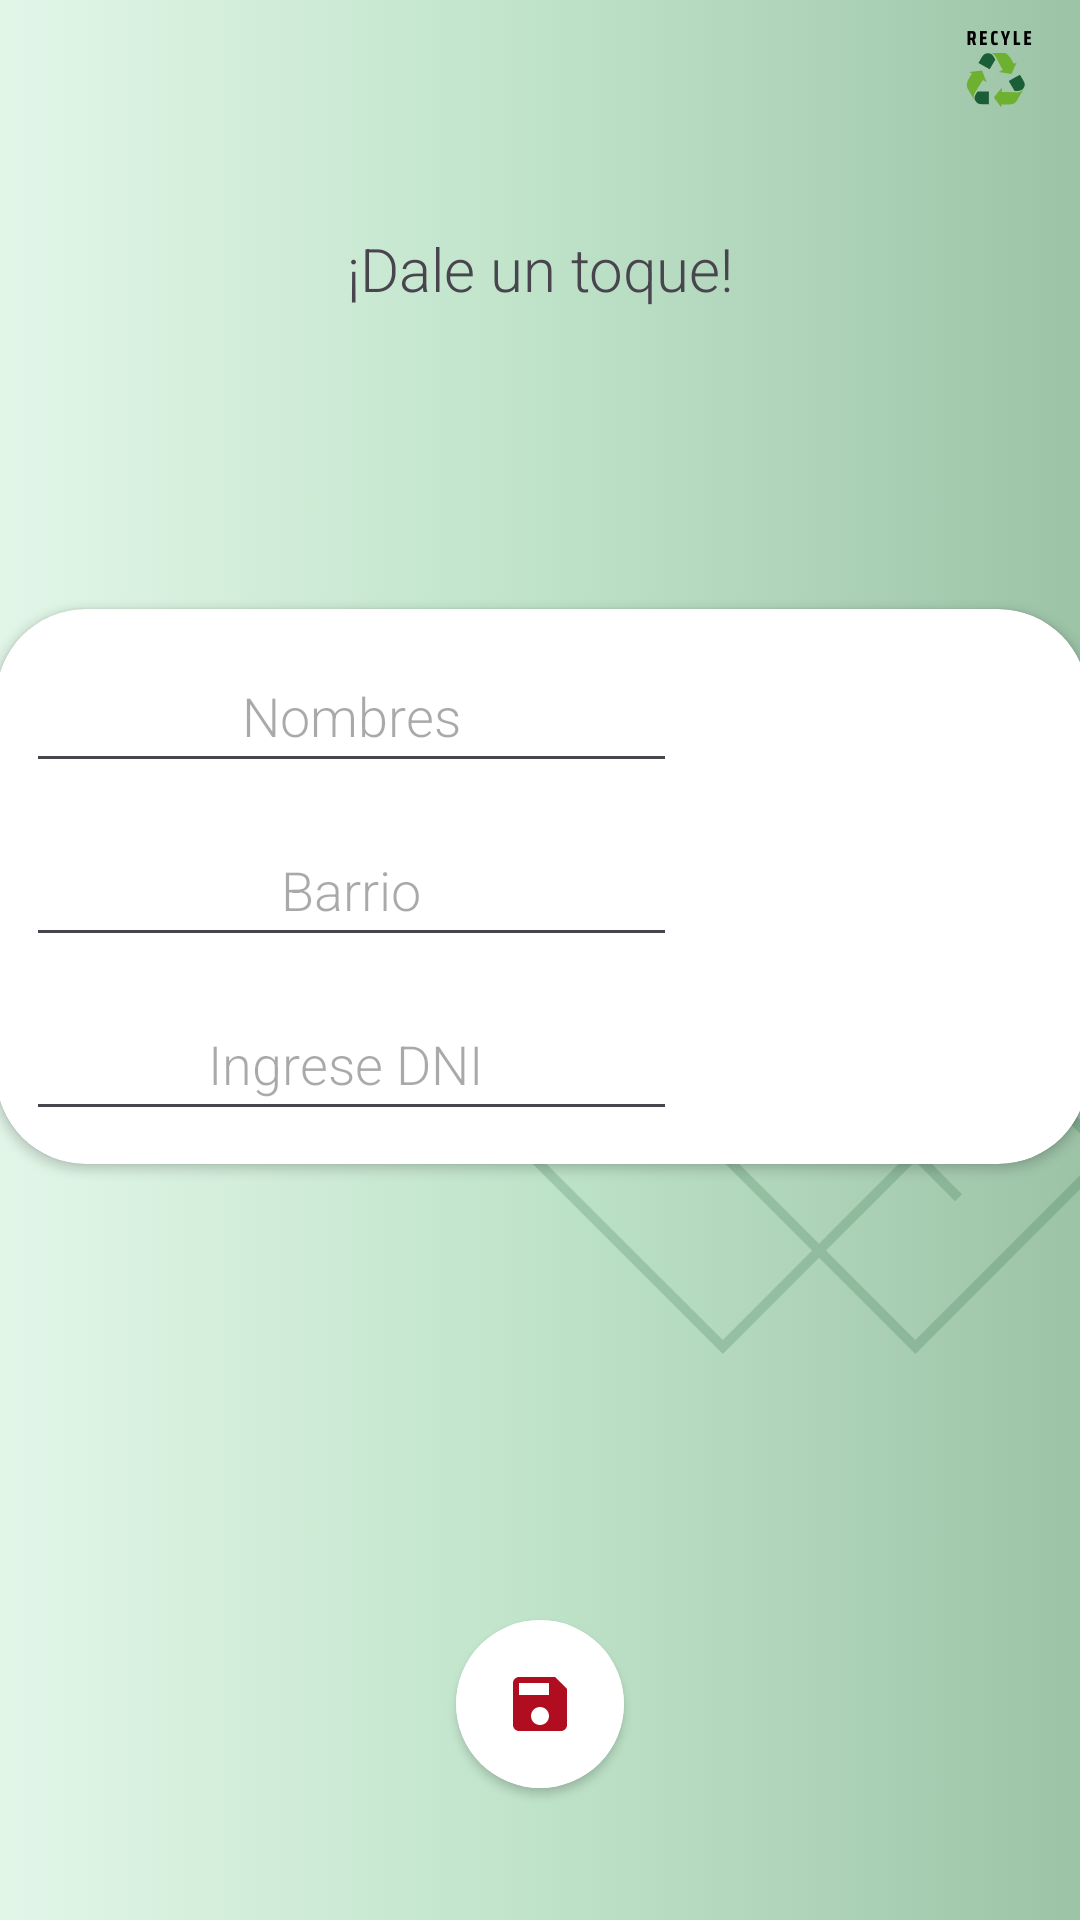

Icon click points for this 1080×1920 phone screenshot, format [x,y]:
save: [540,1704]
